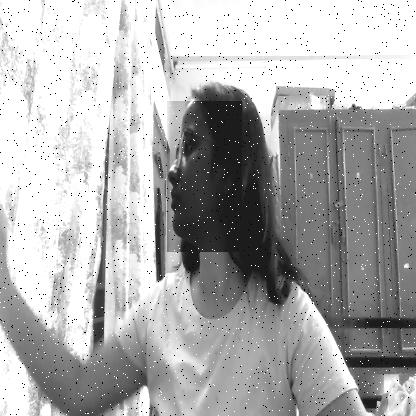Distracted: (167, 101, 242, 252)
